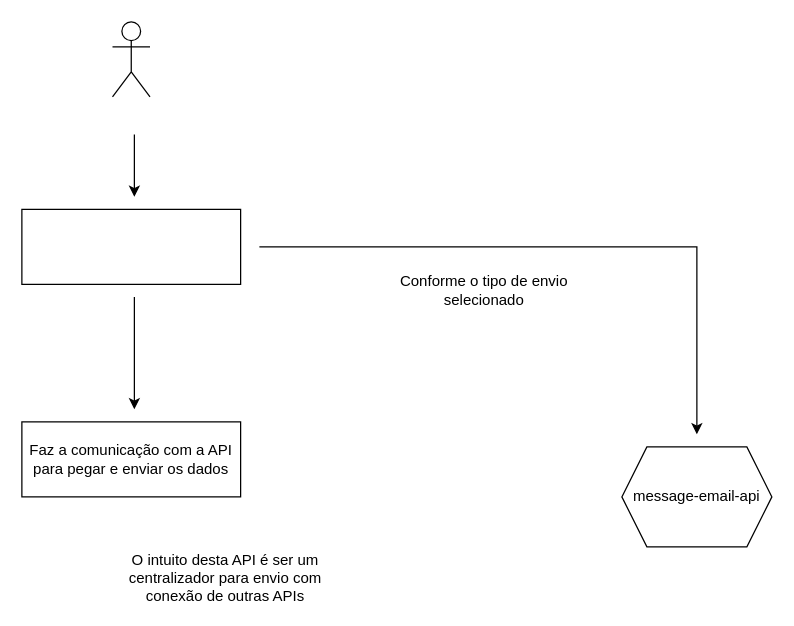
This 794x626 diagram has some shape labels left out. Each missing label, with the centre of its shape:
Actor: the point at 130,59
Faz a requisição do envio, selecionando email, SMS ou Whats app: the point at 131,246
